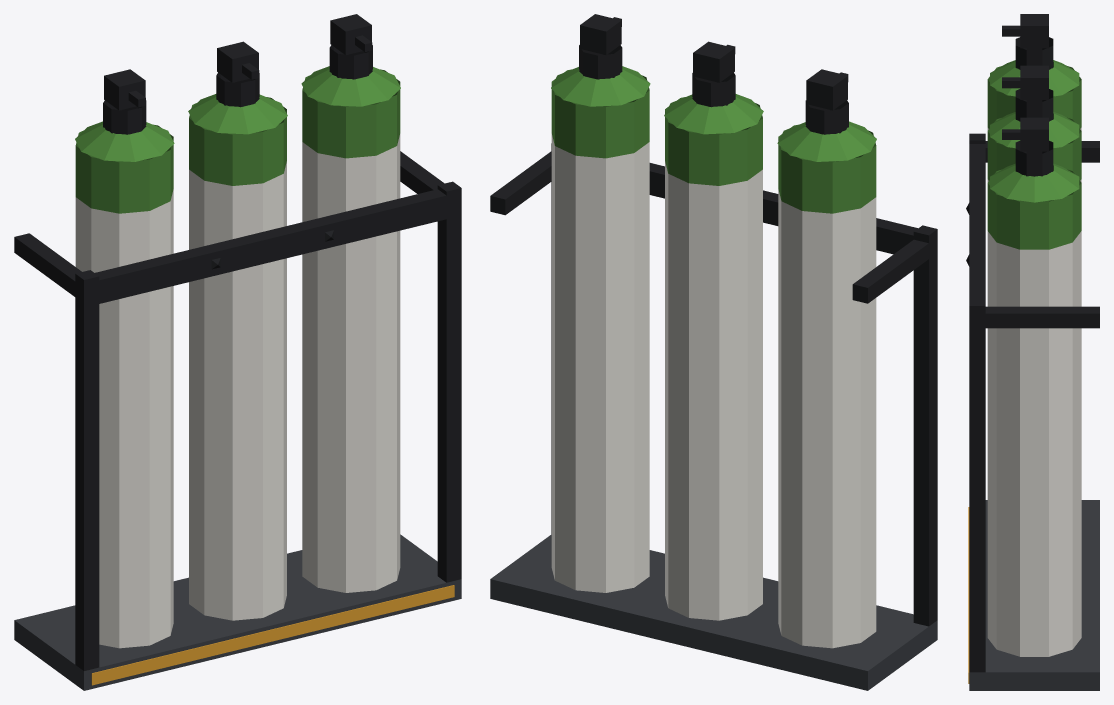
Rendered from dc_o2_rack.glb.
3 views of the same model, side by side, from view 1: azimuth 30°, elevation 25°; view 2: azimuth 150°, elevation 25°; view 3: azimuth 270°, elevation 25° (orthographic). The views are drawn at different scales.
Parts seen in each view (by area): view 1: dc_o2_rack; view 2: dc_o2_rack; view 3: dc_o2_rack.
Boxes of the visible parts, <box> form: dc_o2_rack: <box>14,14,461,690</box>; dc_o2_rack: <box>490,14,937,690</box>; dc_o2_rack: <box>966,14,1099,690</box>.
Size of what is drawn, in the model's own units: 1 by 1.44 by 0.328.
